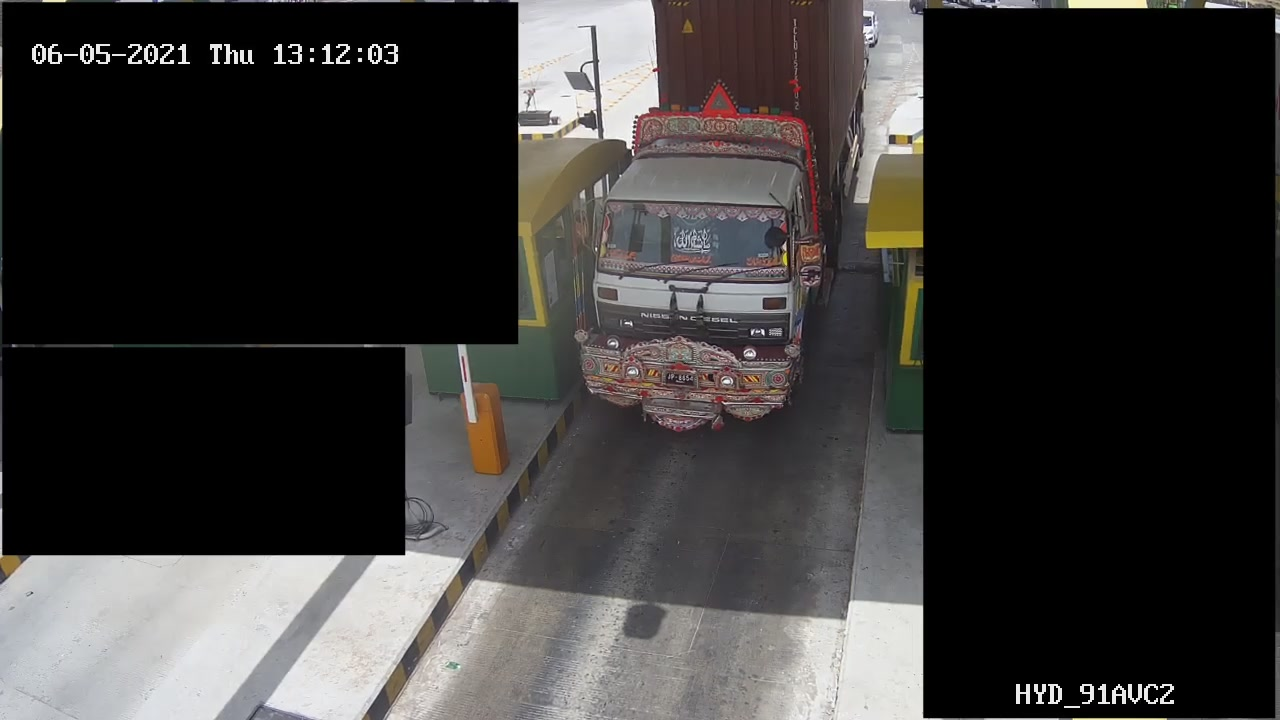F6: (563, 1, 871, 442)
